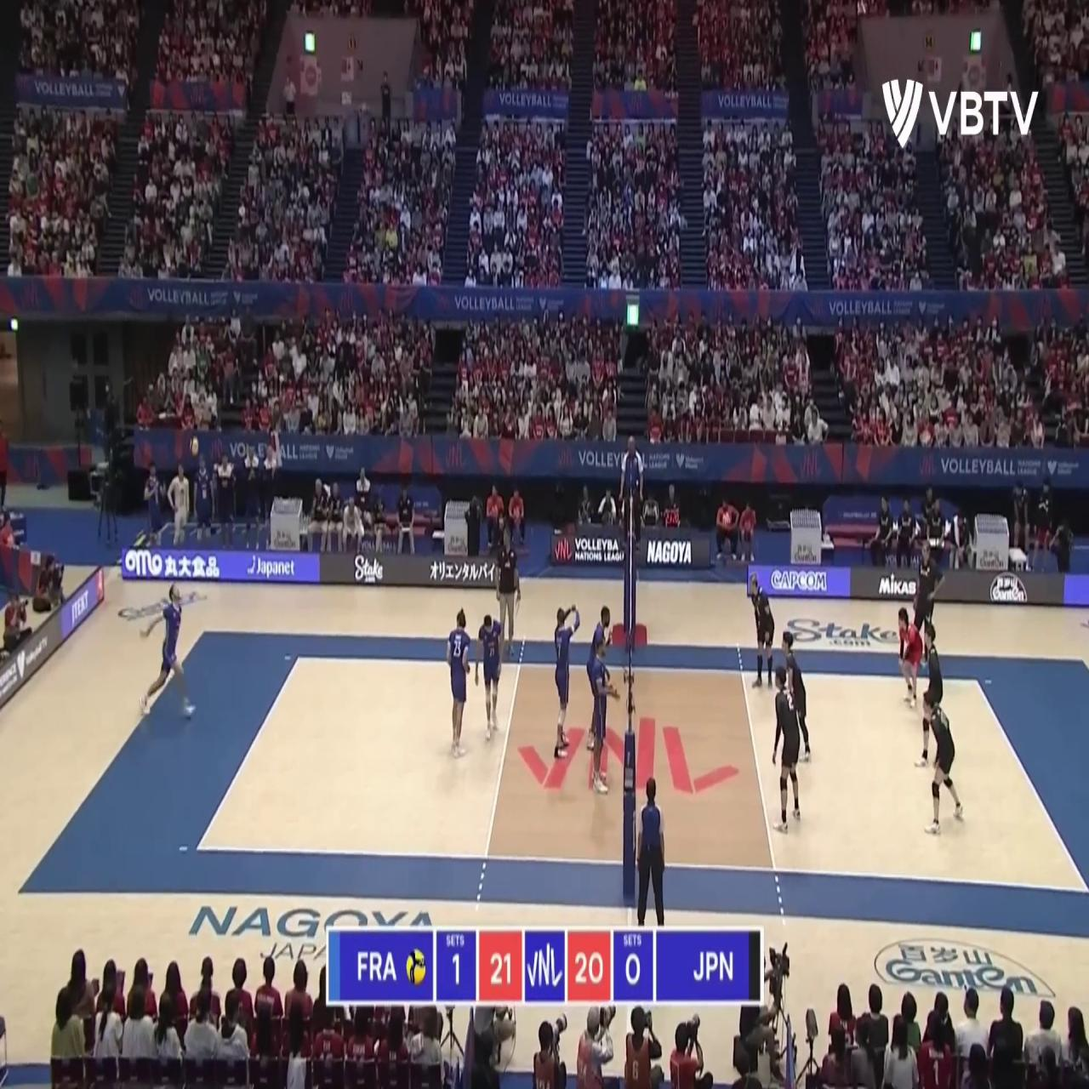ball: (189, 437, 200, 457)
